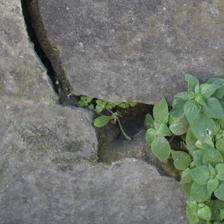Crack: (14, 59, 118, 129), (14, 45, 69, 138)
